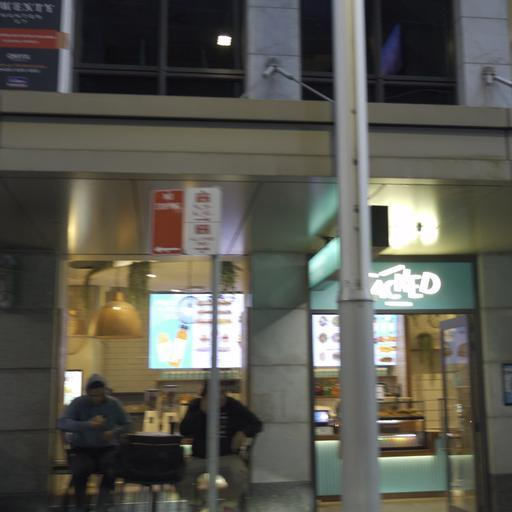Street light: (213, 29, 384, 511), (480, 64, 511, 90)
